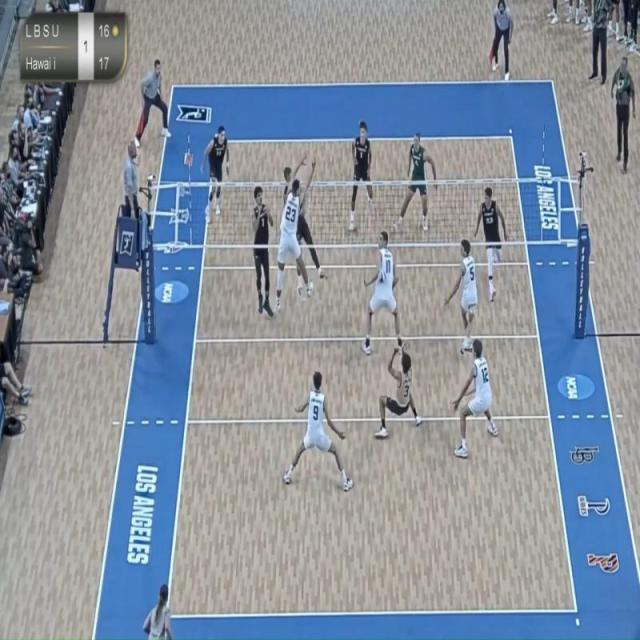volleyball: (377, 267, 388, 288)
